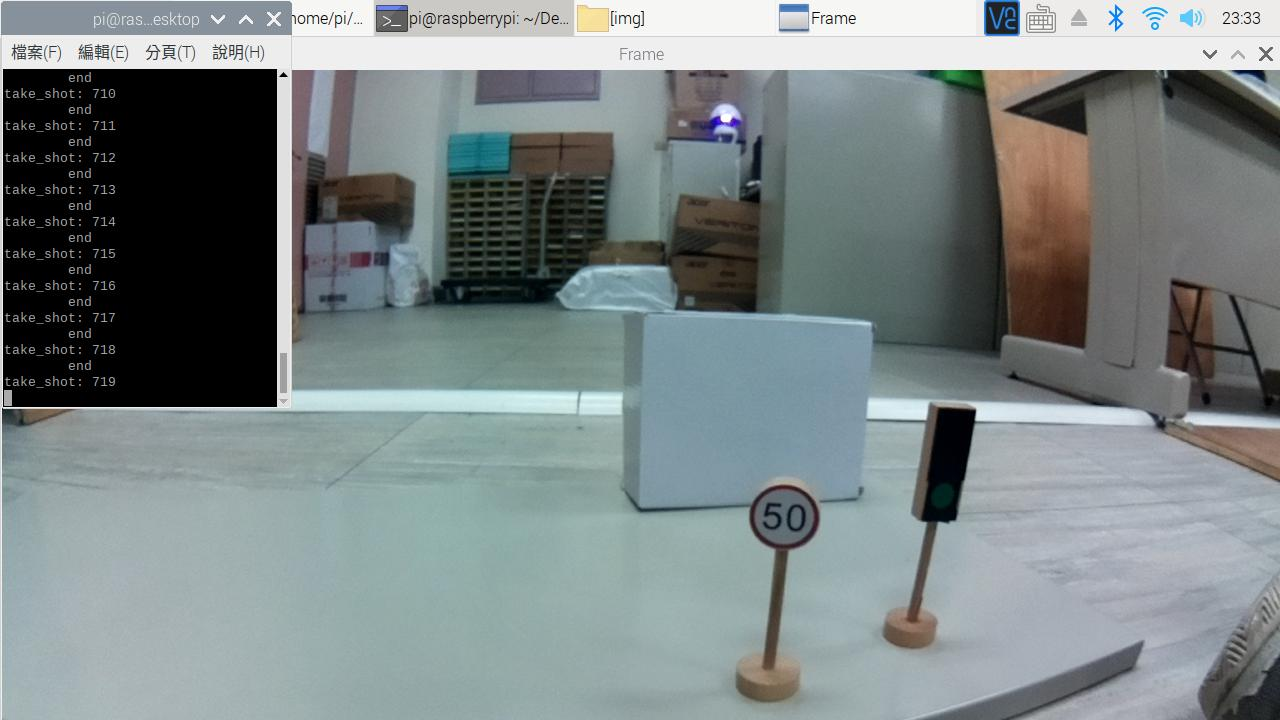Green: (918, 399, 974, 526)
dog: (743, 475, 825, 548)
